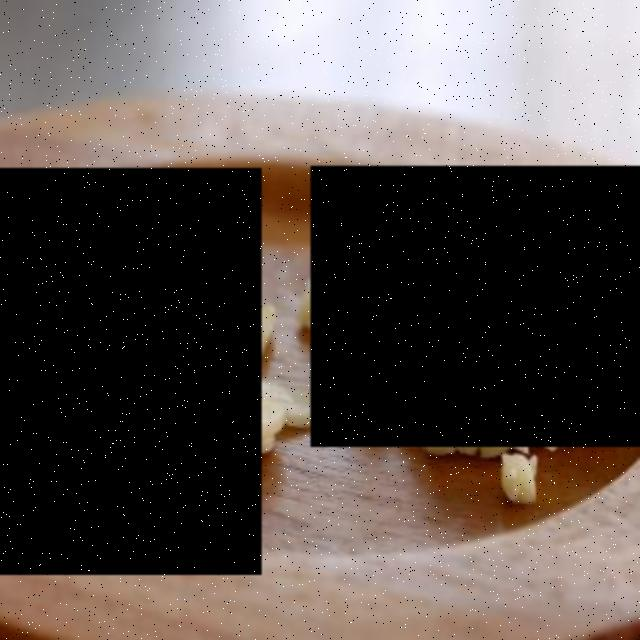Garlic: (0, 168, 262, 573), (310, 167, 640, 448)
